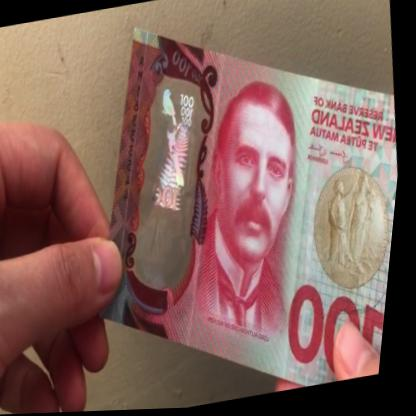100F: (117, 79, 224, 288)
